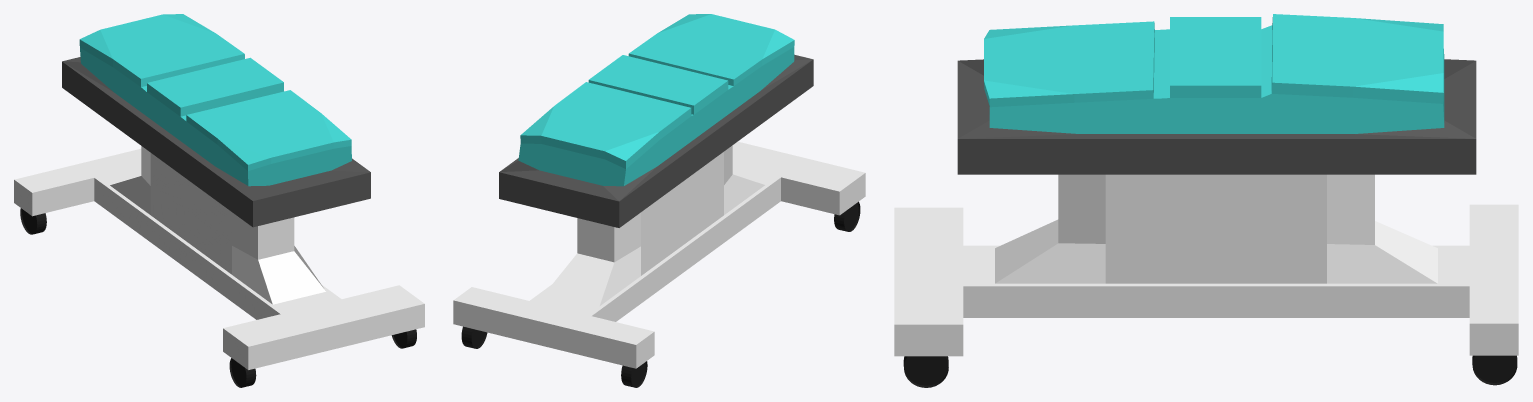
The picture shows the model from 3 angles, left to right: view 1: azimuth 30°, elevation 25°; view 2: azimuth 150°, elevation 25°; view 3: azimuth 270°, elevation 25°; orthographic projection. The views are drawn at different scales.
Parts seen in each view (by area): view 1: Cylinder; view 2: Cylinder; view 3: Cylinder.
Boxes of the visible parts, left/top/right/bottom form: Cylinder: left=14, top=14, right=424, bottom=387; Cylinder: left=453, top=14, right=865, bottom=387; Cylinder: left=894, top=14, right=1518, bottom=387.
Bounding box in the file's own units: 375 × 410 × 825.
